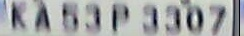character: (208, 3, 227, 35), (110, 2, 129, 32), (185, 5, 205, 33), (60, 1, 78, 31), (141, 3, 158, 34), (164, 4, 181, 33), (10, 2, 27, 28), (85, 1, 100, 30), (34, 3, 50, 30)
